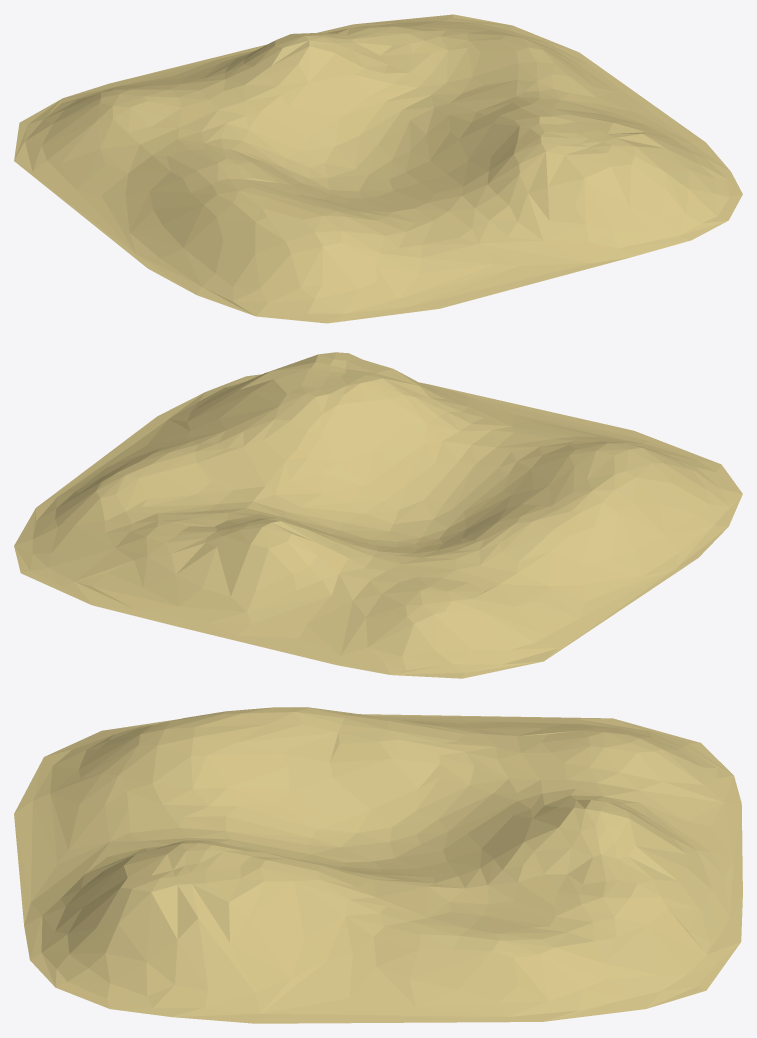
Rendered from TerrainSand_4.fbx.
3 renders of one model, top to bottom at view 1: azimuth 30°, elevation 25°; view 2: azimuth 150°, elevation 25°; view 3: azimuth 270°, elevation 25°, orthographic. The views are drawn at different scales.
Visible parts, largest first — view 1: TerrainSand_4; view 2: TerrainSand_4; view 3: TerrainSand_4.
Boxes of the visible parts, x1=… form: TerrainSand_4: x1=14, y1=14, x2=742, y2=323; TerrainSand_4: x1=14, y1=352, x2=742, y2=678; TerrainSand_4: x1=14, y1=707, x2=742, y2=1023.
Bounding box in the file's own units: 2474 × 277 × 2452.
